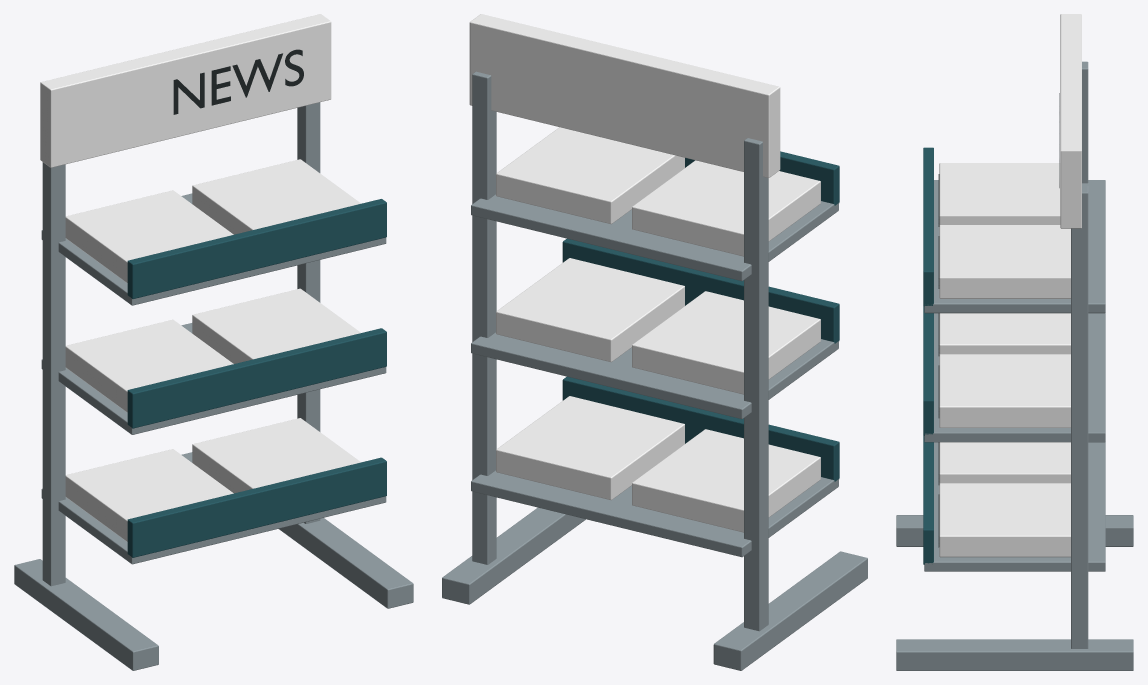
File: source-edit.glb
3 views of the same model, side by side, from view 1: azimuth 30°, elevation 25°; view 2: azimuth 150°, elevation 25°; view 3: azimuth 270°, elevation 25° (orthographic). The views are drawn at different scales.
Parts seen in each view (by area): view 1: Masthead, Front_Stop.001, Front_Stop, Front_Stop.002, Side_Post, Newspaper_Stack, Newspaper_Stack.002, Newspaper_Stack.004, Newspaper_Stack.005, Newspaper_Stack.001, Newspaper_Stack.003, Foot (+6 smaller); view 2: Masthead, Newspaper_Stack.001, Newspaper_Stack.003, Side_Post, Newspaper_Stack.005, Newspaper_Stack.002, Newspaper_Stack, Side_Post.001, Newspaper_Stack.004, Shelf.002, Shelf.001, Shelf (+5 smaller); view 3: Newspaper_Stack.001, Newspaper_Stack.003, Newspaper_Stack.005, Side_Post.001, Newspaper_Stack.004, Foot.001, Newspaper_Stack, Newspaper_Stack.002, Shelf.002, Shelf.001, Shelf, Masthead (+5 smaller).
Part boxes in pixels (x1,y1,x2,y2): Masthead: (40, 14, 331, 167); Front_Stop.001: (127, 328, 386, 428); Front_Stop: (127, 457, 386, 557); Front_Stop.002: (127, 199, 386, 298); Side_Post: (42, 162, 65, 586); Newspaper_Stack: (65, 449, 233, 541); Newspaper_Stack.002: (65, 319, 233, 412); Newspaper_Stack.004: (65, 190, 233, 283); Newspaper_Stack.005: (192, 159, 360, 234); Newspaper_Stack.001: (192, 418, 360, 493); Newspaper_Stack.003: (192, 288, 360, 363); Foot: (14, 559, 158, 670); Masthead: (469, 14, 780, 177); Newspaper_Stack.001: (496, 396, 684, 500); Newspaper_Stack.003: (496, 258, 684, 362); Side_Post: (744, 138, 768, 631); Newspaper_Stack.005: (496, 127, 684, 224); Newspaper_Stack.002: (632, 291, 820, 394); Newspaper_Stack: (632, 429, 820, 532); Side_Post.001: (472, 71, 496, 564); Newspaper_Stack.004: (632, 160, 820, 256); Shelf.002: (471, 194, 838, 281); Shelf.001: (471, 332, 838, 419); Shelf: (471, 470, 838, 557); Newspaper_Stack.001: (939, 483, 1070, 557); Newspaper_Stack.003: (939, 354, 1070, 427); Newspaper_Stack.005: (939, 225, 1070, 298); Side_Post.001: (1071, 186, 1088, 648); Newspaper_Stack.004: (939, 163, 1060, 225); Foot.001: (896, 639, 1133, 670); Newspaper_Stack: (939, 442, 1070, 483); Newspaper_Stack.002: (939, 313, 1070, 354); Shelf.002: (924, 180, 1105, 313); Shelf.001: (924, 313, 1105, 442); Shelf: (924, 442, 1105, 571); Masthead: (1060, 14, 1081, 228).
Size of the model in its own units: 0.75 by 1.33 by 0.55.
